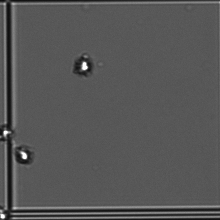Living Cell: (12, 144, 36, 166), (71, 55, 94, 76), (1, 123, 15, 142)
